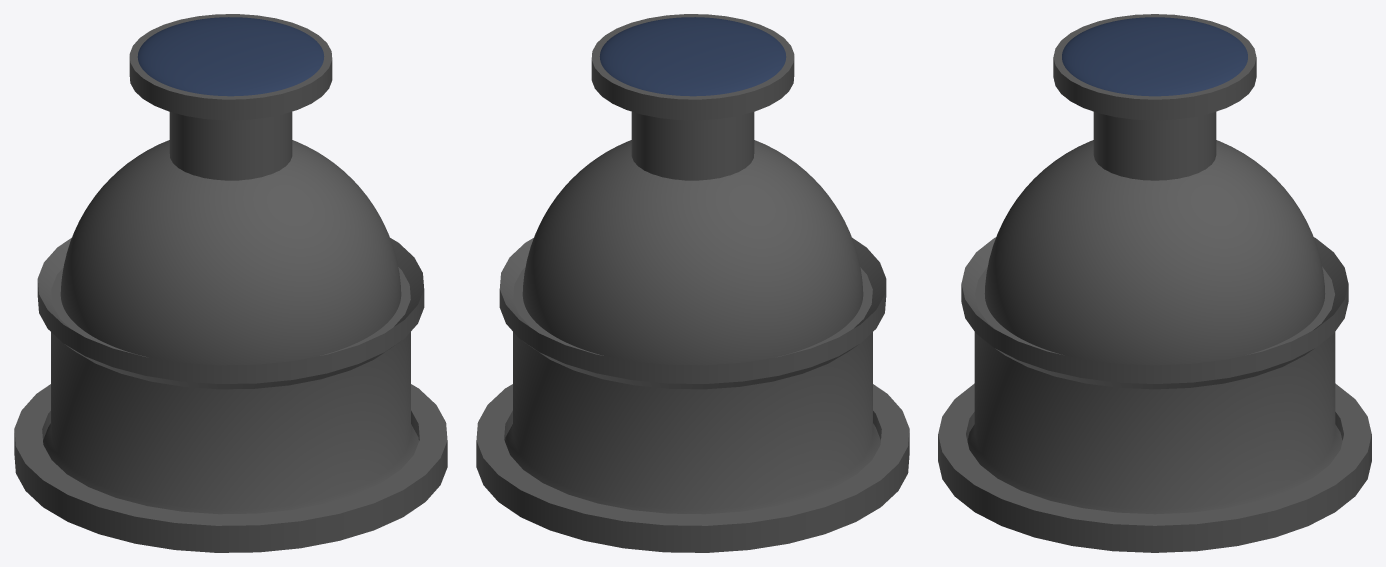
File: camera.glb
3 views of the same model, side by side, from view 1: azimuth 30°, elevation 25°; view 2: azimuth 150°, elevation 25°; view 3: azimuth 270°, elevation 25° (orthographic).
Visible parts, largest first — view 1: Circle, Icosphere, Cylinder, Icosphere.001; view 2: Circle, Icosphere, Cylinder, Icosphere.001; view 3: Circle, Icosphere, Cylinder, Icosphere.001.
Boxes of the visible parts, bbox=[...] form: Circle: bbox=[14, 237, 447, 552]; Icosphere: bbox=[60, 140, 401, 365]; Cylinder: bbox=[129, 14, 332, 180]; Icosphere.001: bbox=[137, 17, 324, 96]; Circle: bbox=[476, 237, 909, 552]; Icosphere: bbox=[522, 140, 863, 365]; Cylinder: bbox=[591, 14, 794, 180]; Icosphere.001: bbox=[599, 17, 786, 96]; Circle: bbox=[938, 237, 1371, 552]; Icosphere: bbox=[984, 140, 1325, 365]; Cylinder: bbox=[1053, 14, 1256, 180]; Icosphere.001: bbox=[1062, 17, 1247, 96].
Size of the model in its own units: 0.2473 by 0.261 by 0.2473.
